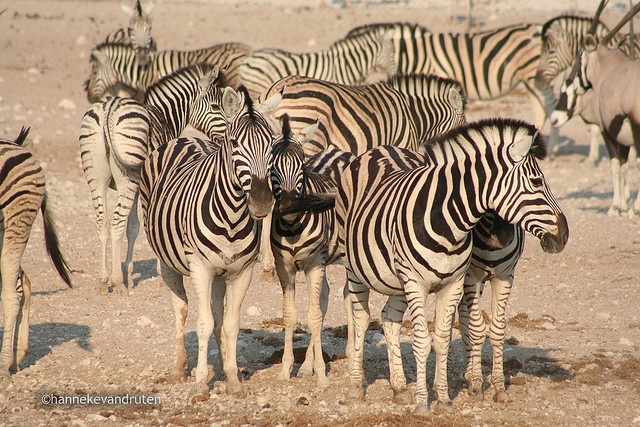zebra: (332, 118, 568, 420), (137, 85, 287, 400), (267, 114, 429, 385), (79, 65, 227, 295), (252, 74, 468, 164), (345, 21, 559, 111), (0, 140, 76, 373), (234, 23, 406, 97), (85, 42, 251, 105), (535, 16, 609, 90), (97, 1, 163, 53)
